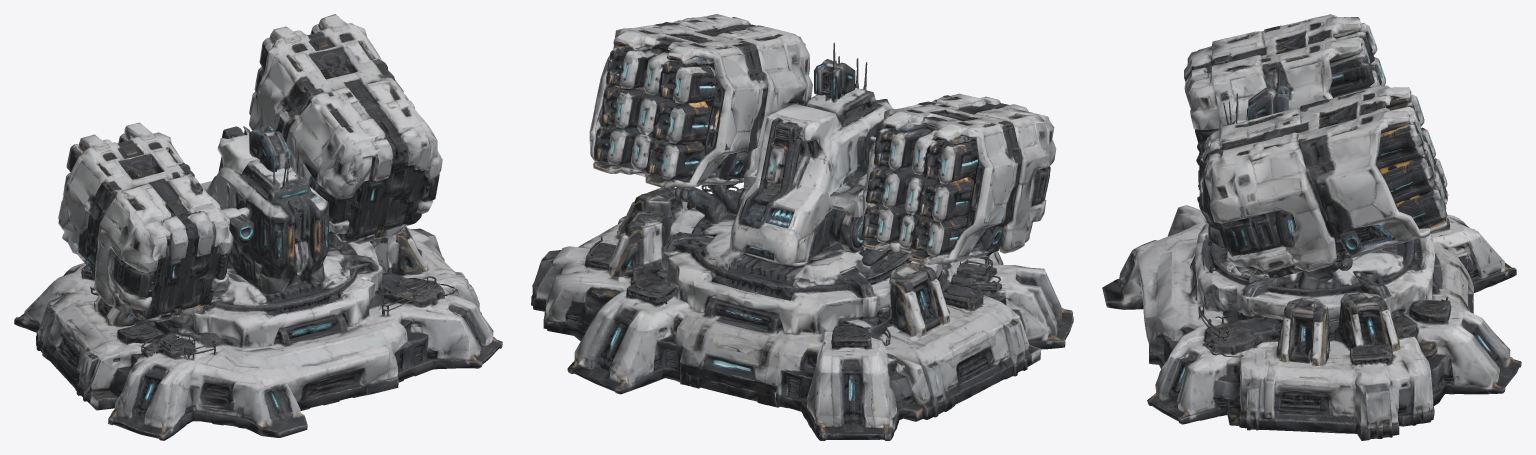
The model's file is sea-missile.glb.
3 views of the same model, side by side, from view 1: azimuth 30°, elevation 25°; view 2: azimuth 150°, elevation 25°; view 3: azimuth 270°, elevation 25° (orthographic). The views are drawn at different scales.
Visible parts, largest first — view 1: head_mesh, base_mesh; view 2: head_mesh, base_mesh; view 3: head_mesh, base_mesh.
Boxes of the visible parts, x1=… form: head_mesh: x1=58, y1=14, x2=442, y2=335; base_mesh: x1=14, y1=228, x2=502, y2=440; head_mesh: x1=589, y1=14, x2=1056, y2=319; base_mesh: x1=531, y1=185, x2=1073, y2=440; head_mesh: x1=1184, y1=14, x2=1448, y2=343; base_mesh: x1=1102, y1=205, x2=1521, y2=440.
Bounding box in the file's own units: 0.9938 × 0.6246 × 0.8544.
1 material, 1 textured.
